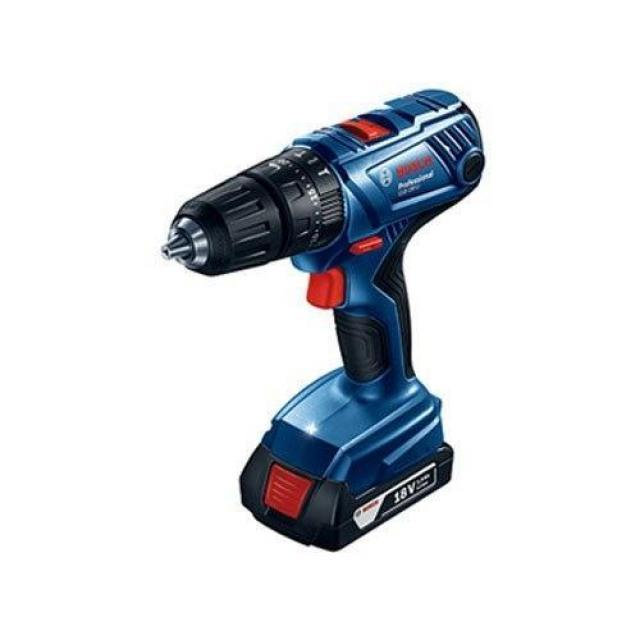drill: (161, 87, 487, 554)
